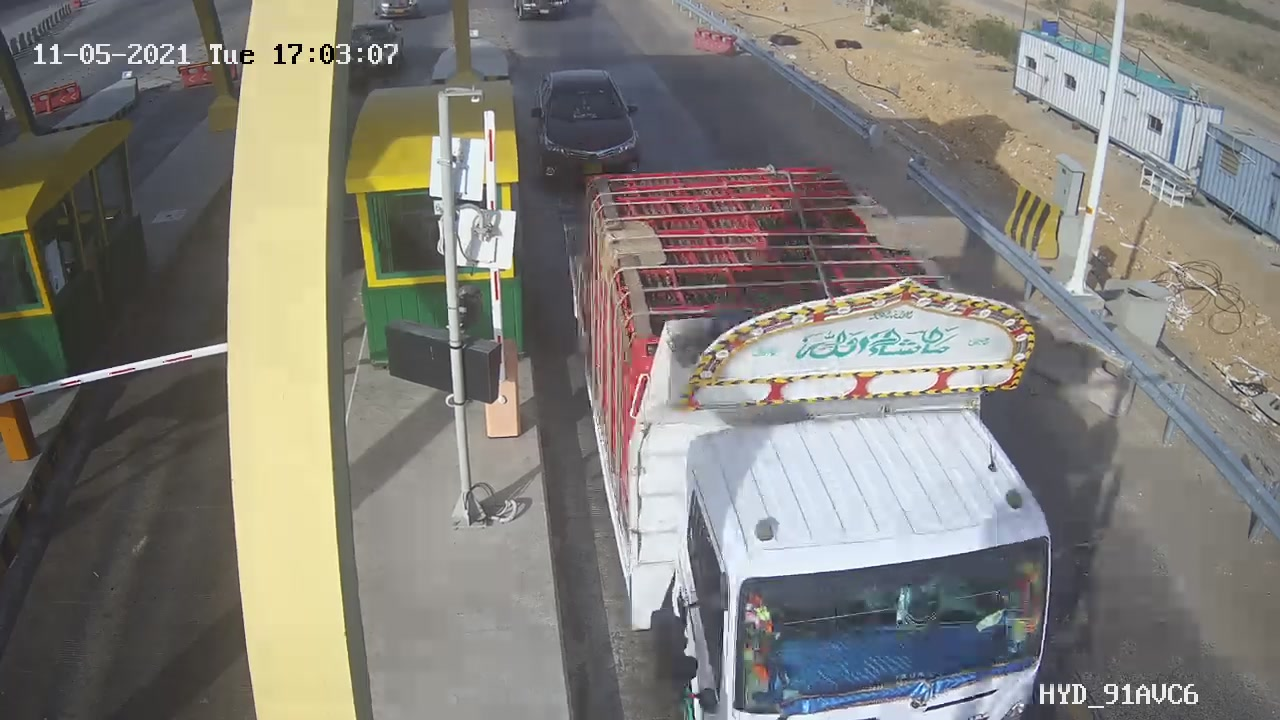F1: (524, 55, 655, 201)
